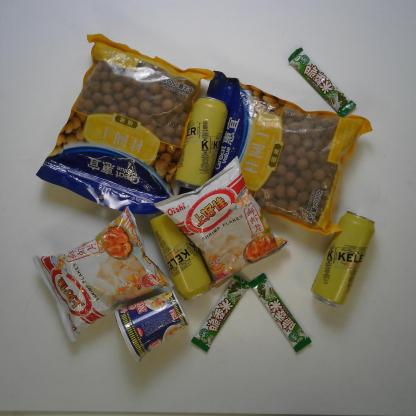Alcohol: (306, 208, 378, 311), (147, 210, 214, 304), (174, 95, 232, 196)
Chocolate: (247, 272, 315, 358), (188, 272, 250, 356), (286, 46, 358, 118)
Dried Food: (176, 68, 378, 240), (37, 33, 219, 215)
Instant Noodles: (112, 286, 191, 364)
Puffed Food: (32, 201, 175, 348), (154, 155, 289, 292)
